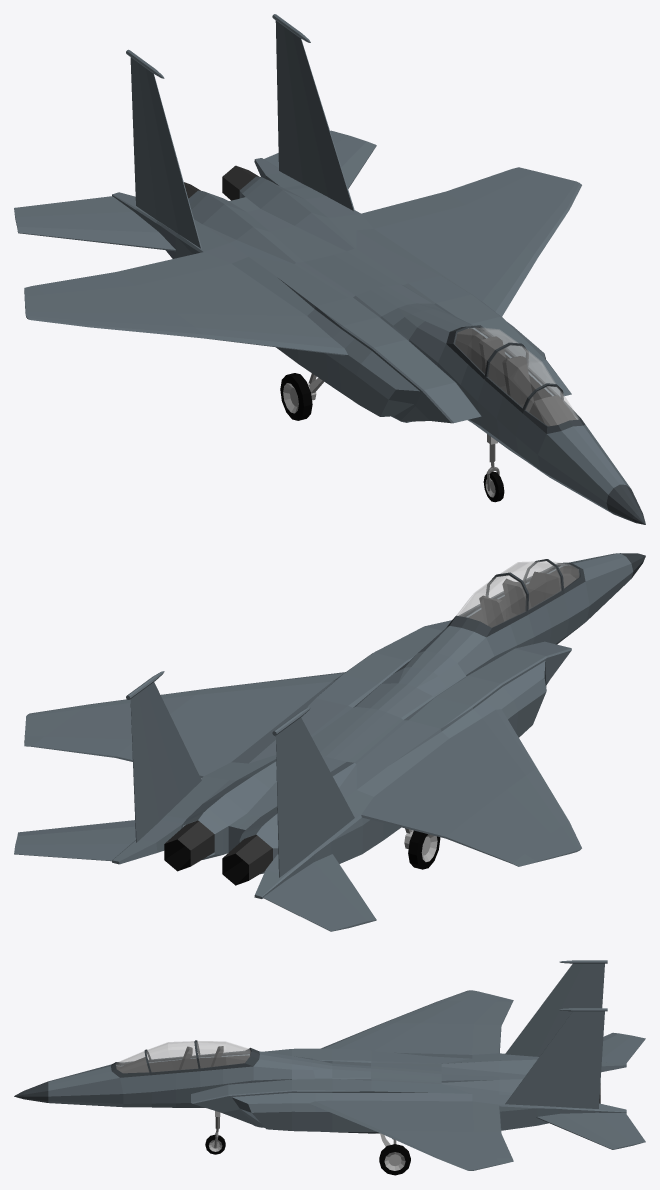
The picture shows the model from 3 angles, top to bottom: view 1: azimuth 30°, elevation 25°; view 2: azimuth 150°, elevation 25°; view 3: azimuth 270°, elevation 25°; orthographic projection. The views are drawn at different scales.
Visible parts, largest first — view 1: Circle.026, Circle.038, Circle.027, Circle.031, Circle.037, Circle.036, Circle.028, Circle.030, Landing gear_RL.005, Circle.029, Circle.035, Landing gear_F.002; view 2: Circle.026, Circle.027, Circle.038, Circle.030, Circle.037, Circle.031, Circle.028, Circle.029, Circle.035, Landing gear_RL.005, Circle.036; view 3: Circle.026, Circle.027, Circle.030, Circle.031, Circle.038, Landing gear_RL.004, Circle.028, Circle.036, Circle.037, Circle.035, Circle.029, Landing gear_F.002.
Part boxes in pixels (x1,y1,x2,y2): Circle.026: [24, 14, 645, 524]; Circle.038: [14, 196, 175, 251]; Circle.027: [446, 325, 561, 412]; Circle.031: [275, 20, 303, 183]; Circle.037: [130, 57, 156, 219]; Circle.036: [361, 191, 465, 228]; Circle.028: [116, 252, 230, 285]; Circle.030: [264, 130, 376, 188]; Landing gear_RL.005: [280, 373, 323, 420]; Circle.029: [33, 272, 135, 294]; Circle.035: [446, 169, 524, 204]; Landing gear_F.002: [483, 434, 504, 502]; Circle.026: [24, 553, 645, 898]; Circle.027: [446, 559, 563, 637]; Circle.038: [263, 854, 376, 931]; Circle.030: [14, 820, 135, 861]; Circle.037: [275, 729, 305, 877]; Circle.031: [130, 693, 159, 842]; Circle.028: [361, 797, 466, 838]; Circle.029: [446, 820, 524, 863]; Circle.035: [32, 737, 132, 757]; Landing gear_RL.005: [404, 828, 440, 869]; Circle.036: [115, 743, 230, 778]; Circle.026: [14, 960, 626, 1170]; Circle.027: [145, 1040, 259, 1075]; Circle.030: [536, 1112, 645, 1149]; Circle.031: [567, 1011, 604, 1108]; Circle.038: [602, 1032, 645, 1063]; Landing gear_RL.004: [379, 1133, 410, 1175]; Circle.028: [472, 1024, 501, 1054]; Circle.036: [472, 1101, 501, 1132]; Circle.037: [582, 963, 604, 1008]; Circle.035: [474, 1131, 512, 1158]; Circle.029: [474, 1001, 512, 1025]; Landing gear_F.002: [205, 1111, 225, 1154].
Size of the model in its own units: 1284 by 565 by 1903.
